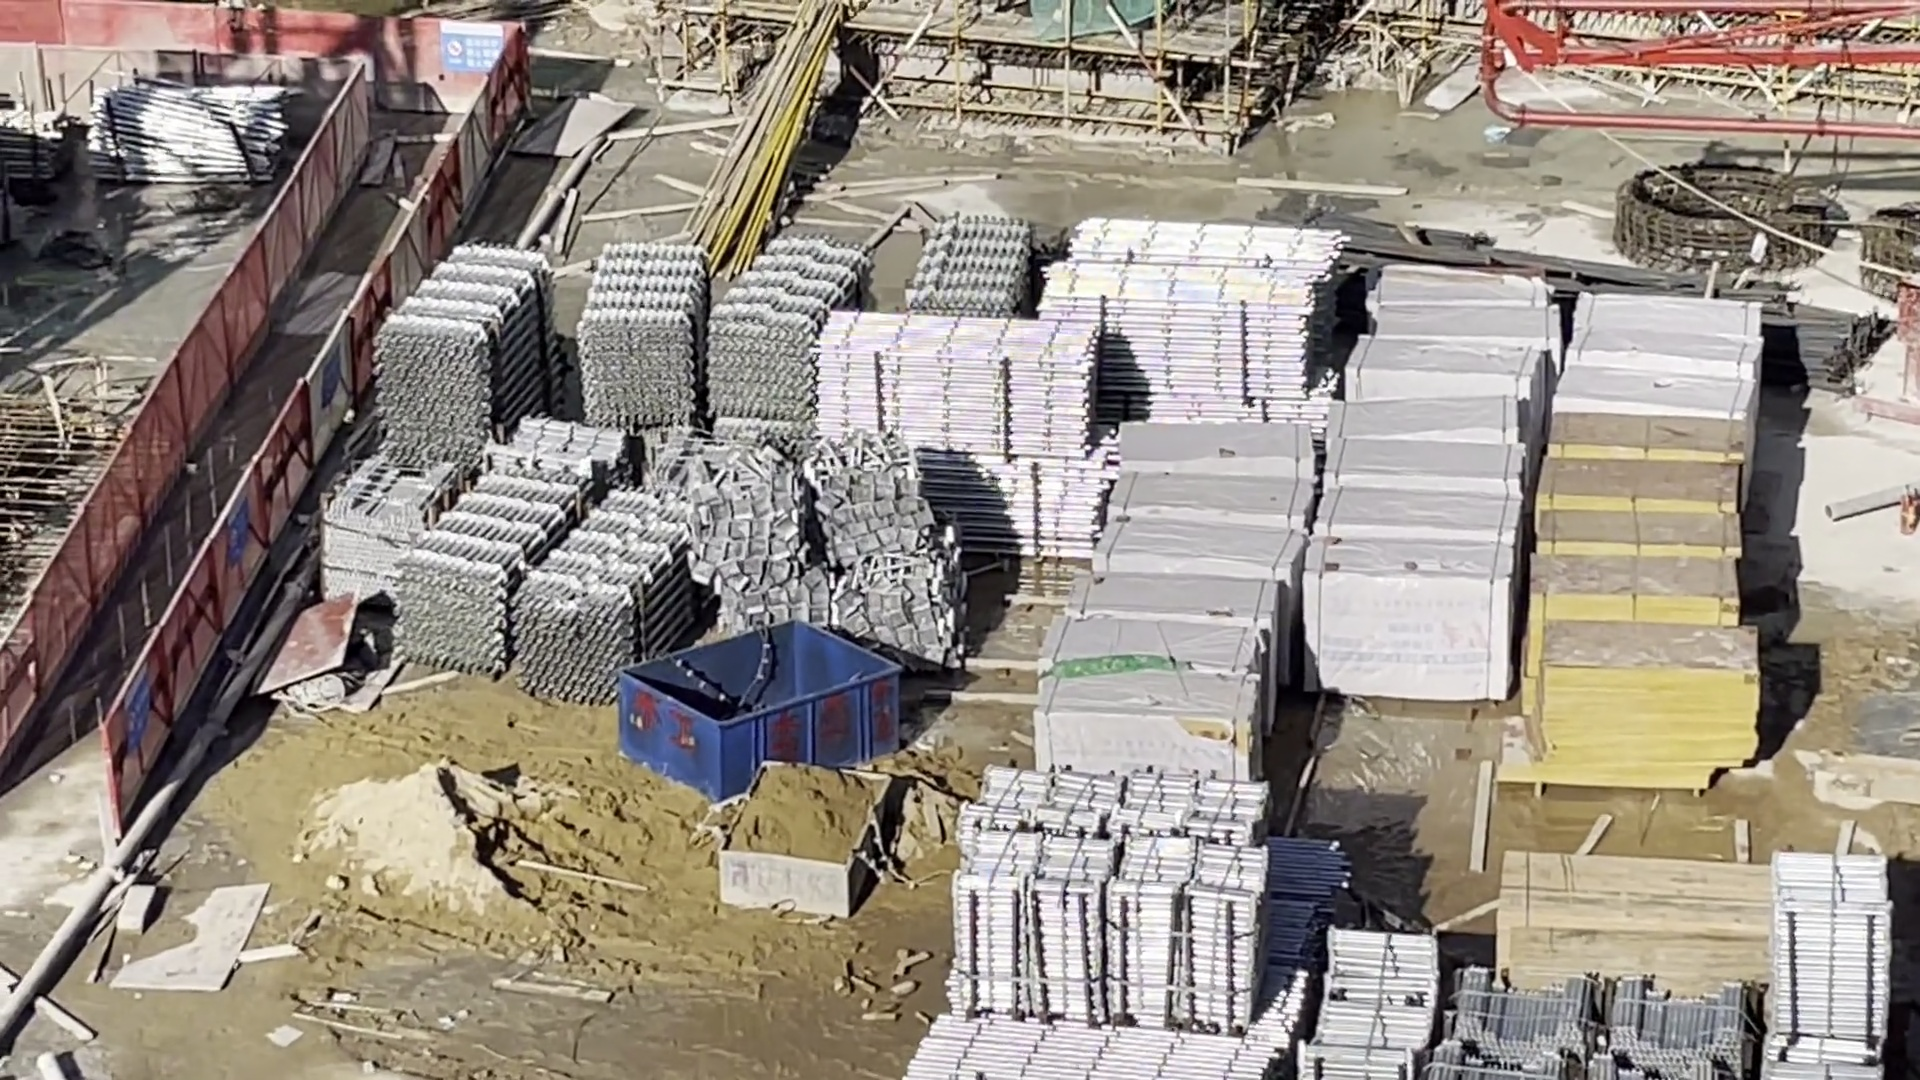board: (1527, 415, 1743, 781), (1501, 847, 1767, 975)
fence: (13, 83, 485, 758), (1, 4, 451, 115)
hopper: (617, 622, 901, 804), (723, 761, 891, 922)
rebar: (1348, 229, 1873, 386)
scaffold: (811, 305, 1100, 572), (971, 765, 1262, 1029), (398, 479, 694, 684), (1043, 223, 1342, 406), (588, 249, 862, 425), (1436, 968, 1749, 1080), (382, 255, 547, 456), (916, 1000, 1288, 1080), (1762, 855, 1884, 1080), (86, 83, 280, 179), (1308, 930, 1432, 1080), (916, 220, 1027, 323)
slogan: (440, 22, 506, 79), (123, 666, 150, 754), (227, 501, 251, 560)
